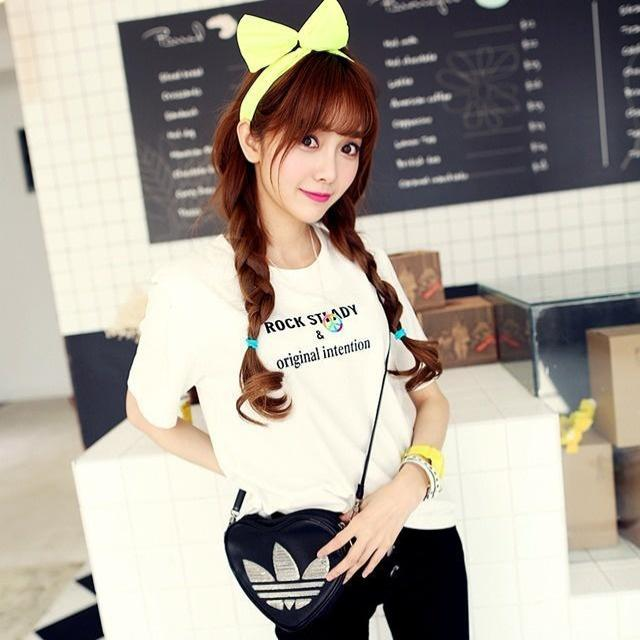short-sleeve-top: (122, 217, 538, 532)
